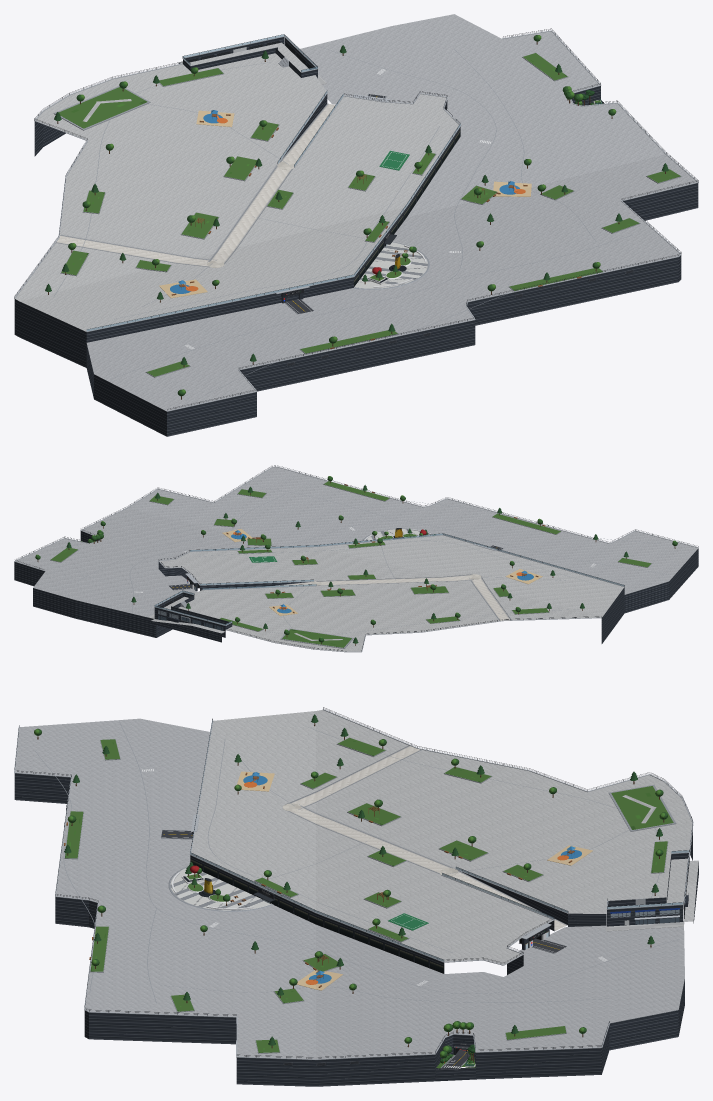
Rendered from place_금파힐커뮤니티.glb.
3 renders of one model, top to bottom at view 1: azimuth 30°, elevation 25°; view 2: azimuth 150°, elevation 25°; view 3: azimuth 270°, elevation 25°, orthographic. The views are drawn at different scales.
Parts seen in each view (by area): view 1: Lower_Deck_TopSurface, Upper_Deck_TopSurface, Lower_SouthEast_RetainingWall_South, Parks_Playgrounds_Trees, Promenade_Main_L_Path, Lower_Coping_Fence (×2), Community_South_SolidGraniteWall, Upper_SW_RetainingWall, Lower_SW_EndWall, NW_Community_RoofGarden, RoundPark_StripedFloor, Upper_Coping_GlassRail (+2 smaller); view 2: Lower_Deck_TopSurface, Upper_Deck_TopSurface, Parks_Playgrounds_Trees, Lower_NE_EndWall, Lower_Coping_Fence (×2), Promenade_Main_L_Path, Lower_SW_EndWall, Upper_Coping_GlassRail, NW_Community_RoofGarden, Upper_SW_RetainingWall, Lower_SouthEast_RetainingWall_North, Ramp_TrenchWall_SE (+2 smaller); view 3: Lower_Deck_TopSurface, Upper_Deck_TopSurface, Lower_SouthEast_RetainingWall_South, Parks_Playgrounds_Trees, Promenade_Main_L_Path, Lower_SouthEast_RetainingWall_North, Lower_Coping_Fence (×2), Community_SE_1F_CurtainWallFacade, Lower_NE_EndWall, NW_Community_RoofGarden, RoundPark_StripedFloor, Upper_Coping_GlassRail (+8 smaller).
Part boxes in pixels (box(x1,y1,x2,y2)): Lower_Deck_TopSurface: box(86, 14, 696, 411); Upper_Deck_TopSurface: box(15, 42, 459, 331); Lower_SouthEast_RetainingWall_South: box(167, 183, 698, 436); Parks_Playgrounds_Trees: box(45, 35, 681, 399); Promenade_Main_L_Path: box(56, 103, 335, 267); Lower_Coping_Fence (×2): box(14, 28, 698, 411); Community_South_SolidGraniteWall: box(86, 277, 353, 342); Upper_SW_RetainingWall: box(14, 299, 86, 367); Lower_SW_EndWall: box(86, 344, 166, 436); NW_Community_RoofGarden: box(53, 86, 150, 130); RoundPark_StripedFloor: box(354, 242, 427, 288); Upper_Coping_GlassRail: box(86, 123, 460, 331); Lower_Deck_TopSurface: box(16, 467, 698, 617); Upper_Deck_TopSurface: box(160, 535, 624, 651); Parks_Playgrounds_Trees: box(35, 476, 677, 645); Lower_NE_EndWall: box(33, 588, 156, 637); Lower_Coping_Fence (×2): box(14, 465, 698, 652); Promenade_Main_L_Path: box(260, 574, 511, 620); Lower_SW_EndWall: box(624, 548, 698, 613); Upper_Coping_GlassRail: box(189, 533, 624, 586); NW_Community_RoofGarden: box(280, 628, 353, 648); Upper_SW_RetainingWall: box(601, 587, 624, 643); Lower_SouthEast_RetainingWall_North: box(14, 562, 44, 586); Ramp_TrenchWall_SE: box(200, 582, 305, 590); Lower_Deck_TopSurface: box(15, 718, 684, 1058); Upper_Deck_TopSurface: box(191, 710, 692, 964); Lower_SouthEast_RetainingWall_South: box(14, 773, 453, 1086); Parks_Playgrounds_Trees: box(34, 714, 668, 1062); Promenade_Main_L_Path: box(282, 745, 567, 931); Lower_SouthEast_RetainingWall_North: box(474, 1026, 609, 1079); Lower_Coping_Fence (×2): box(14, 707, 693, 1059); Community_SE_1F_CurtainWallFacade: box(190, 855, 444, 973); Lower_NE_EndWall: box(609, 979, 684, 1050); NW_Community_RoofGarden: box(608, 785, 676, 831); RoundPark_StripedFloor: box(170, 867, 271, 910); Upper_Coping_GlassRail: box(189, 718, 444, 962).
Size of the model in its own units: 391 by 39.99 by 322.
51 materials, 16 textured.
